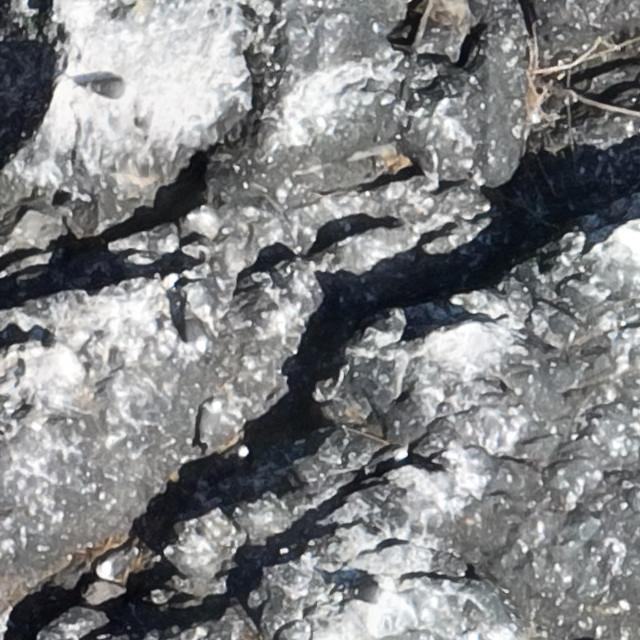umineko: (178, 299, 211, 358), (196, 394, 223, 444), (100, 550, 130, 576), (356, 583, 394, 603), (88, 80, 126, 99), (372, 448, 405, 465)
